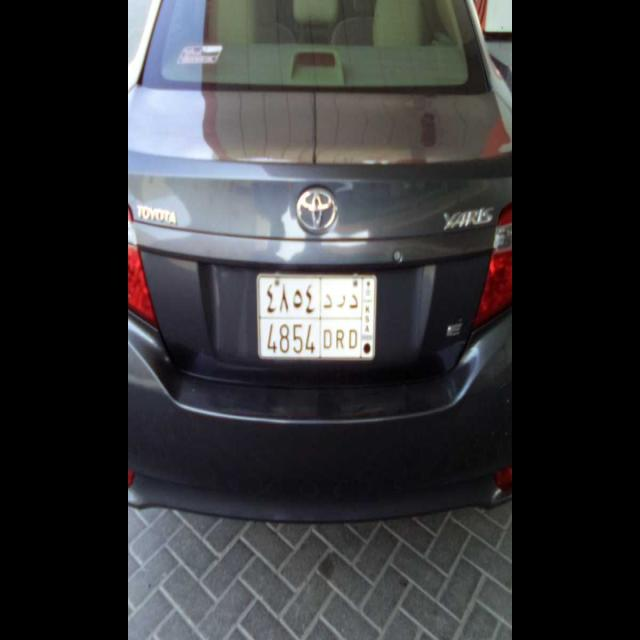license_plate: (262, 317, 365, 358)
